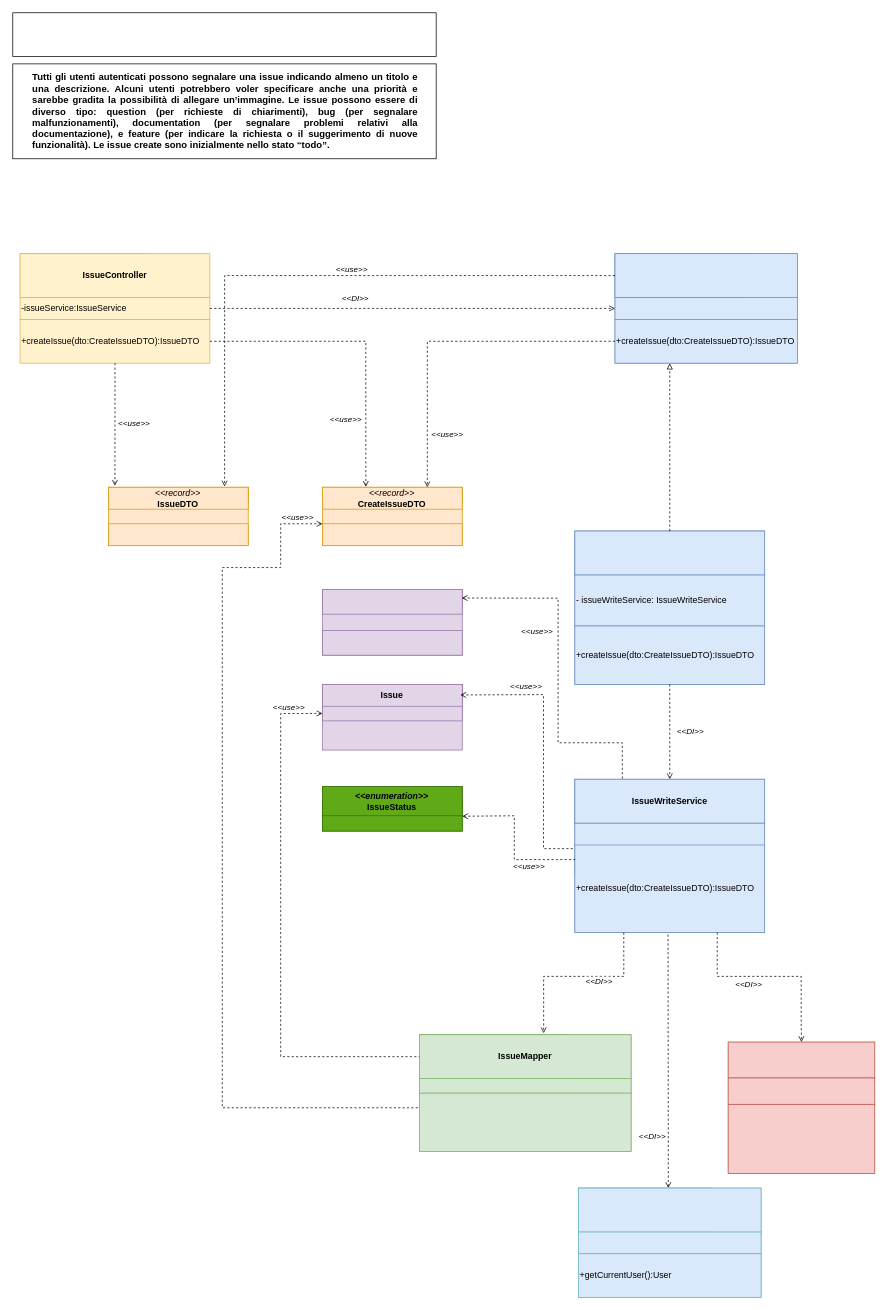
Image size: 888x1310. Some labels were removed from this diagram. The centre of each missing label's shape, as x and y in pixels:
+mapToEntity(issue:Issue,dto:CreateIssueDTO):Issue: (525,1122)
<<interface>> AuthService: (669,1209)
<<interface>> IssueRepository: (801,1059)
<<interface>> IssueService: (706,275)
Funzionalità 2: (224,34)
IssueServiceImpl: (669,552)
User: (392,601)
